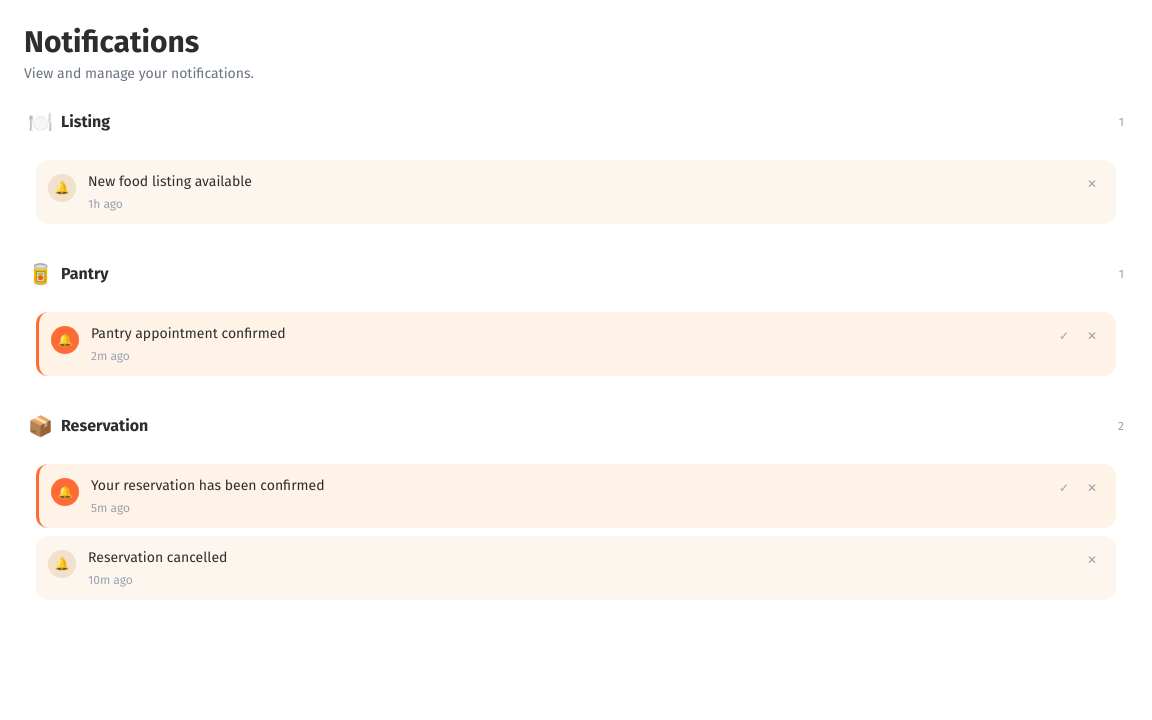
Test: NotificationsPage › Mark as Read › should update notification state after marking as read
The width and height of the screenshot is (1152, 720).
Expected: the text "Your reservation has been confirmed" is shown, [91, 477, 324, 494]
Click the button with test id "mark-read-button-notif-1": (1064, 488) [1052, 476, 1076, 500]
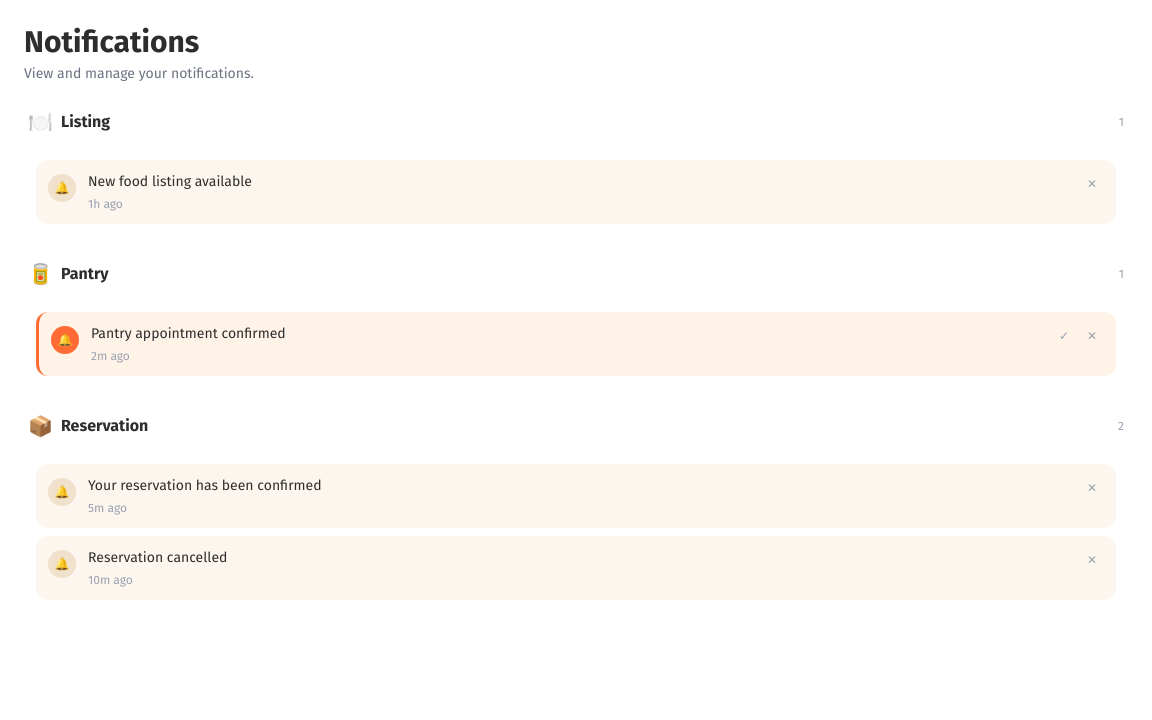
Now the button with test id "mark-read-button-notif-1" is gone
